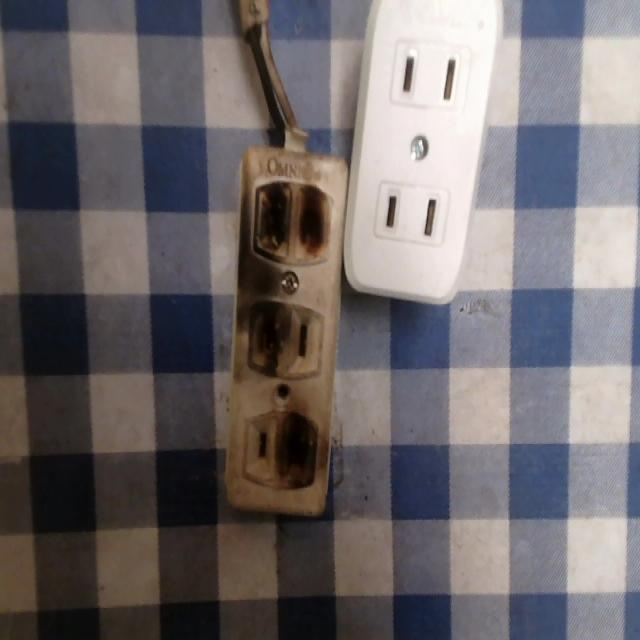-: (252, 175, 336, 273), (240, 296, 295, 385), (276, 405, 318, 499)
